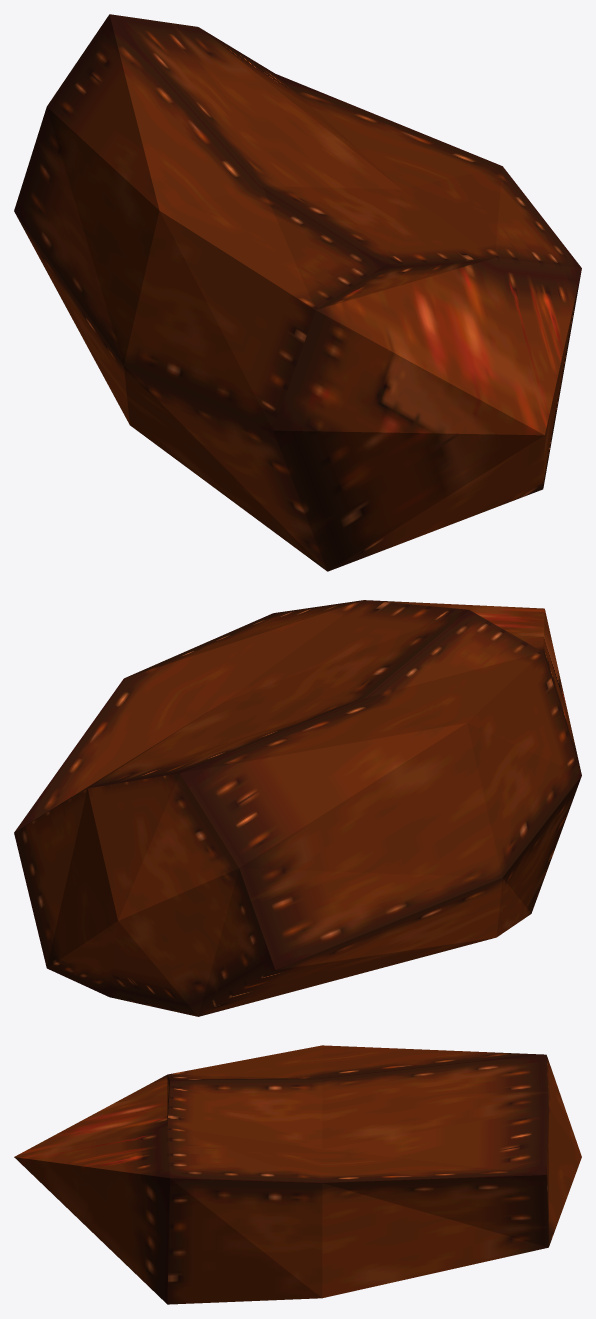
Rendered from ZeppelinHalleTeil_Wrack2_841.glb.
3 renders of one model, top to bottom at view 1: azimuth 30°, elevation 25°; view 2: azimuth 150°, elevation 25°; view 3: azimuth 270°, elevation 25°, orthographic. The views are drawn at different scales.
Visible parts, largest first — view 1: pCubeShape19; view 2: pCubeShape19; view 3: pCubeShape19.
Part boxes in pixels (x1=…): pCubeShape19: x1=14, y1=14, x2=581, y2=571; pCubeShape19: x1=14, y1=600, x2=581, y2=1016; pCubeShape19: x1=14, y1=1045, x2=581, y2=1304.
Bounding box in the file's own units: 1.28 × 1.08 × 2.51.
1 material, 1 textured.
